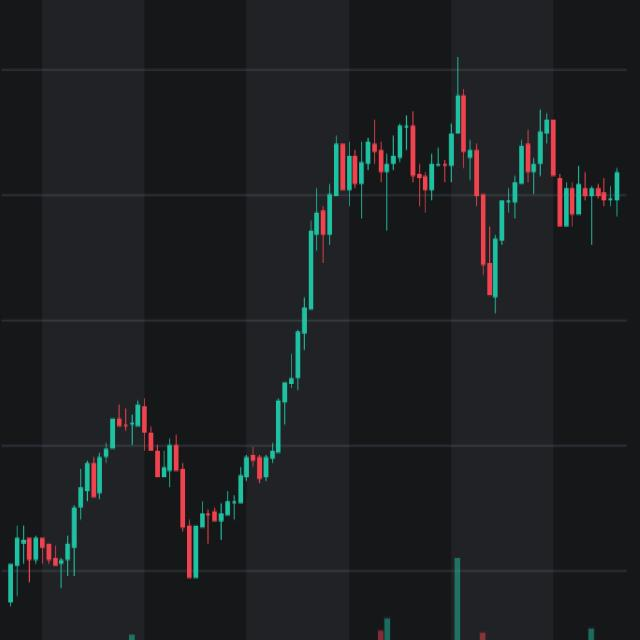Resistance-breakout: (51, 94, 424, 570)
